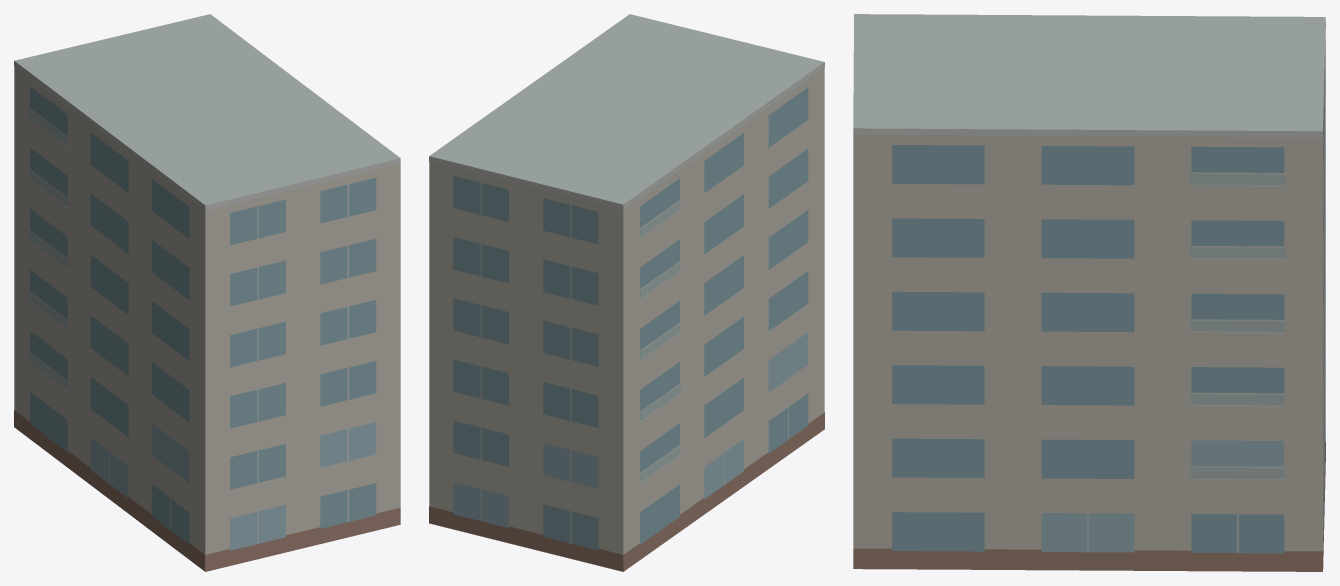
The model's file is survey-upis-32840678.glb.
The picture shows the model from 3 angles, left to right: view 1: azimuth 30°, elevation 25°; view 2: azimuth 150°, elevation 25°; view 3: azimuth 270°, elevation 25°; orthographic projection. The views are drawn at different scales.
Parts seen in each view (by area): view 1: survey-upis-32840678.tmp; view 2: survey-upis-32840678.tmp; view 3: survey-upis-32840678.tmp.
Part boxes in pixels (<box>): survey-upis-32840678.tmp: <box>14,14,400,571</box>; survey-upis-32840678.tmp: <box>429,14,824,571</box>; survey-upis-32840678.tmp: <box>853,14,1325,571</box>.
Size of the model in its own units: 9.5 by 16.6 by 16.15.
